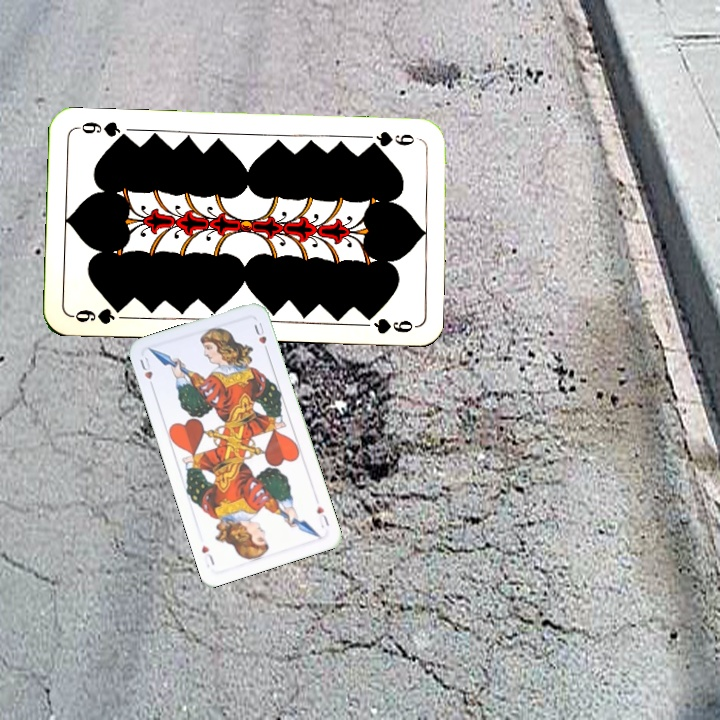G9: (68, 301, 127, 326), (363, 128, 422, 151)
HU: (136, 353, 157, 392), (313, 502, 332, 531)
